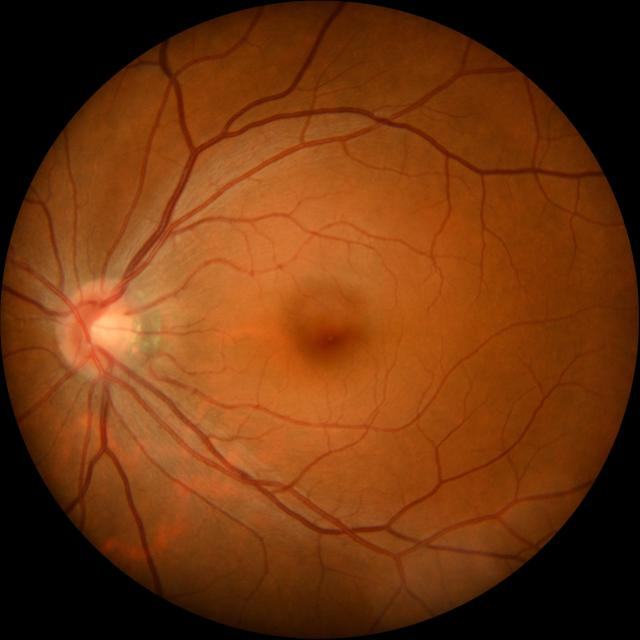OC: (89, 310, 126, 348)
OD: (64, 283, 135, 373)
